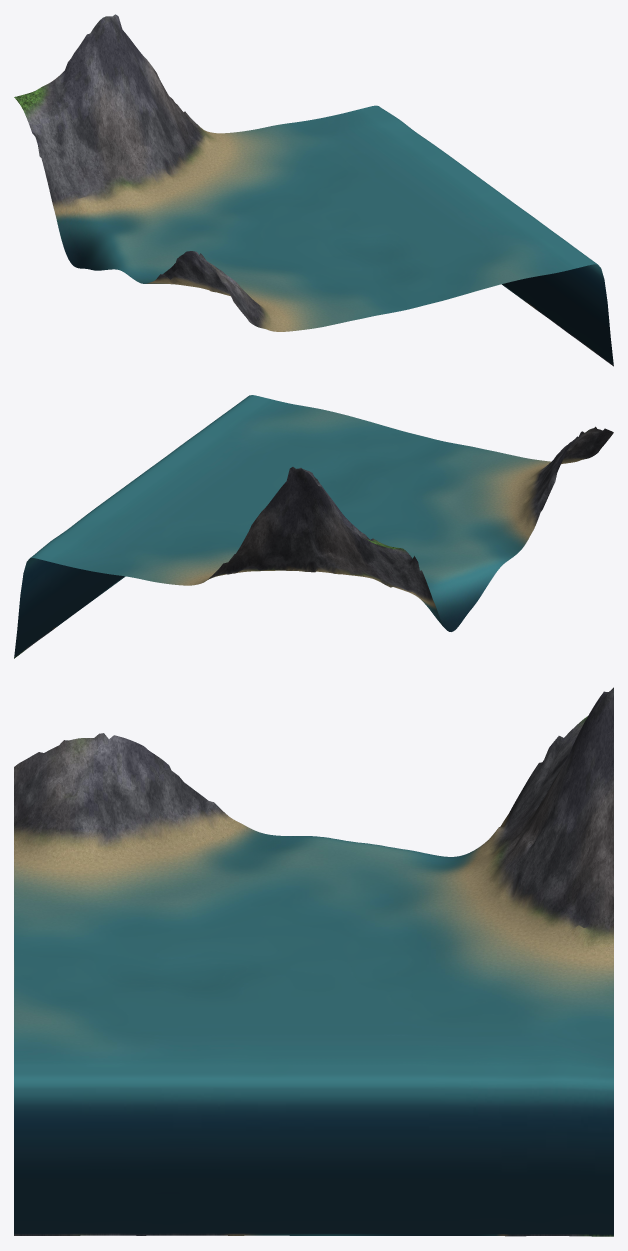
3 renders of one model, top to bottom at view 1: azimuth 30°, elevation 25°; view 2: azimuth 150°, elevation 25°; view 3: azimuth 270°, elevation 25°, orthographic. The views are drawn at different scales.
Parts seen in each view (by area): view 1: t192_064; view 2: t192_064; view 3: t192_064.
Boxes of the visible parts, bbox=[...] form: t192_064: bbox=[14, 14, 613, 366]; t192_064: bbox=[14, 395, 613, 658]; t192_064: bbox=[14, 687, 613, 1236].
Size of the model in its own units: 64 by 41.9 by 64.
Materials: 1 (1 with a texture image).
